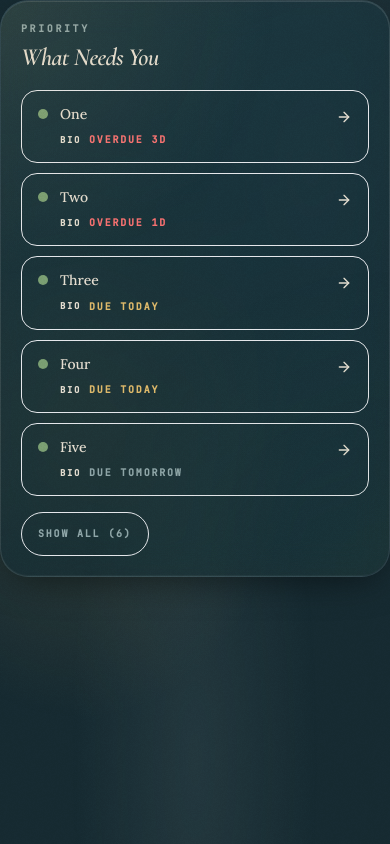
Scenario: PriorityItems › expands the queue inline after the first five items
The width and height of the screenshot is (390, 844).
Expected: the text "One" is shown, [60,105,87,123]
Expected: the text "Five" is shown, [60,438,86,456]
Step 1. Click the button "Show all (6)" → (85, 534), box [21,512,149,556]
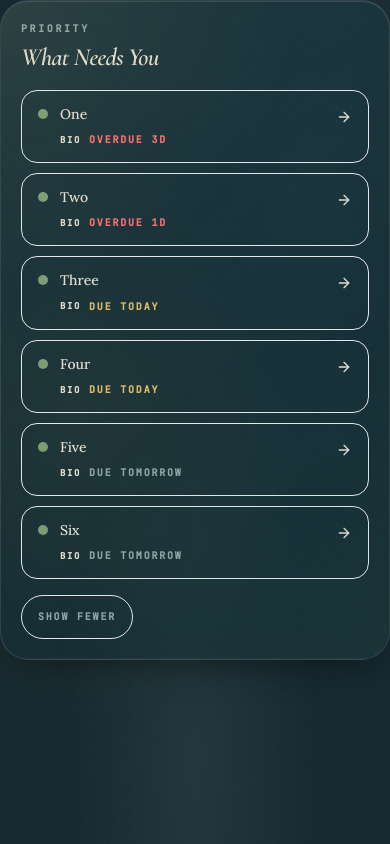
Result: the text "Six" is shown at [60,521,80,539]
Result: the button "Show fewer" is shown at [21,595,133,639]
